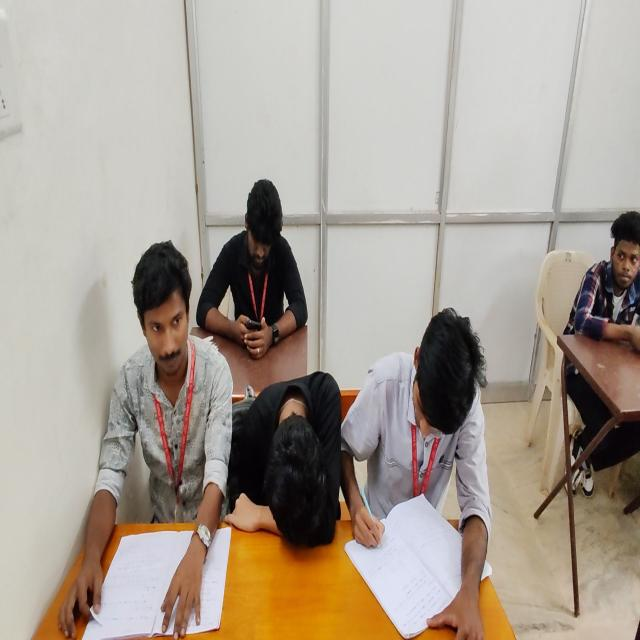listening: (560, 209, 639, 501)
reading: (58, 240, 235, 640)
sleeping: (223, 365, 342, 551)
using_mobile: (197, 178, 310, 357)
writing: (344, 311, 485, 640)
